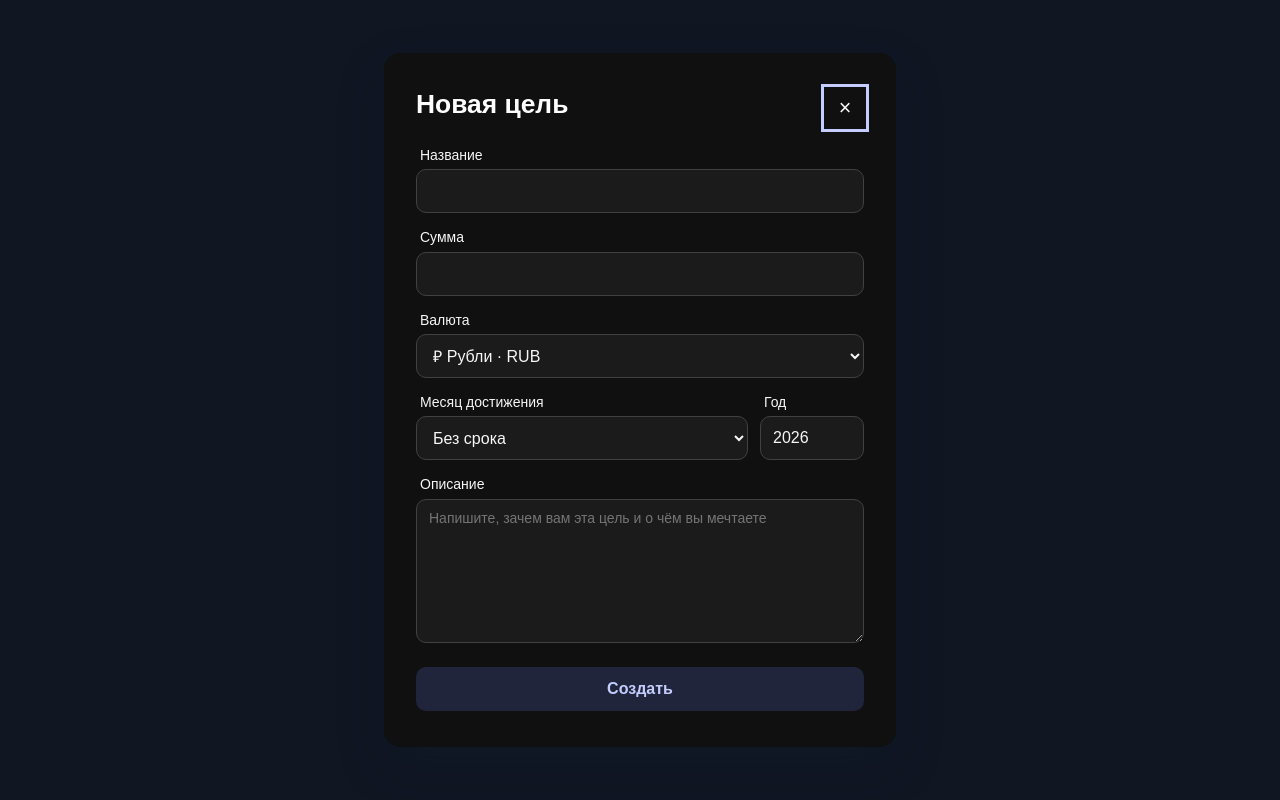
Scenario: CreateGoalDialog › keeps the dialog open when Отпуск and 1000.5 are invalid
In the field labelled "Название": (640, 191) [416,169,864,213], type "Отпуск"
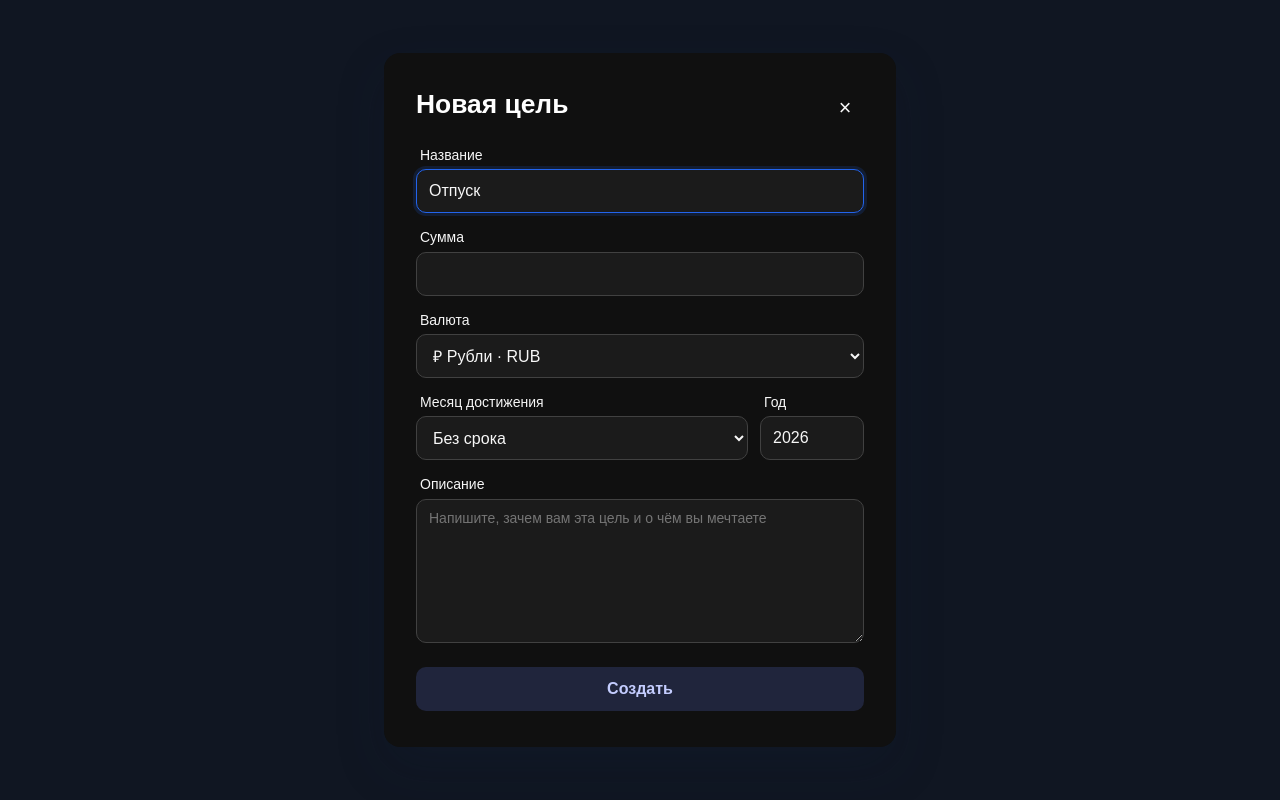
In the field labelled "Сумма": (640, 274) [416,252,864,296], type "1000.5"
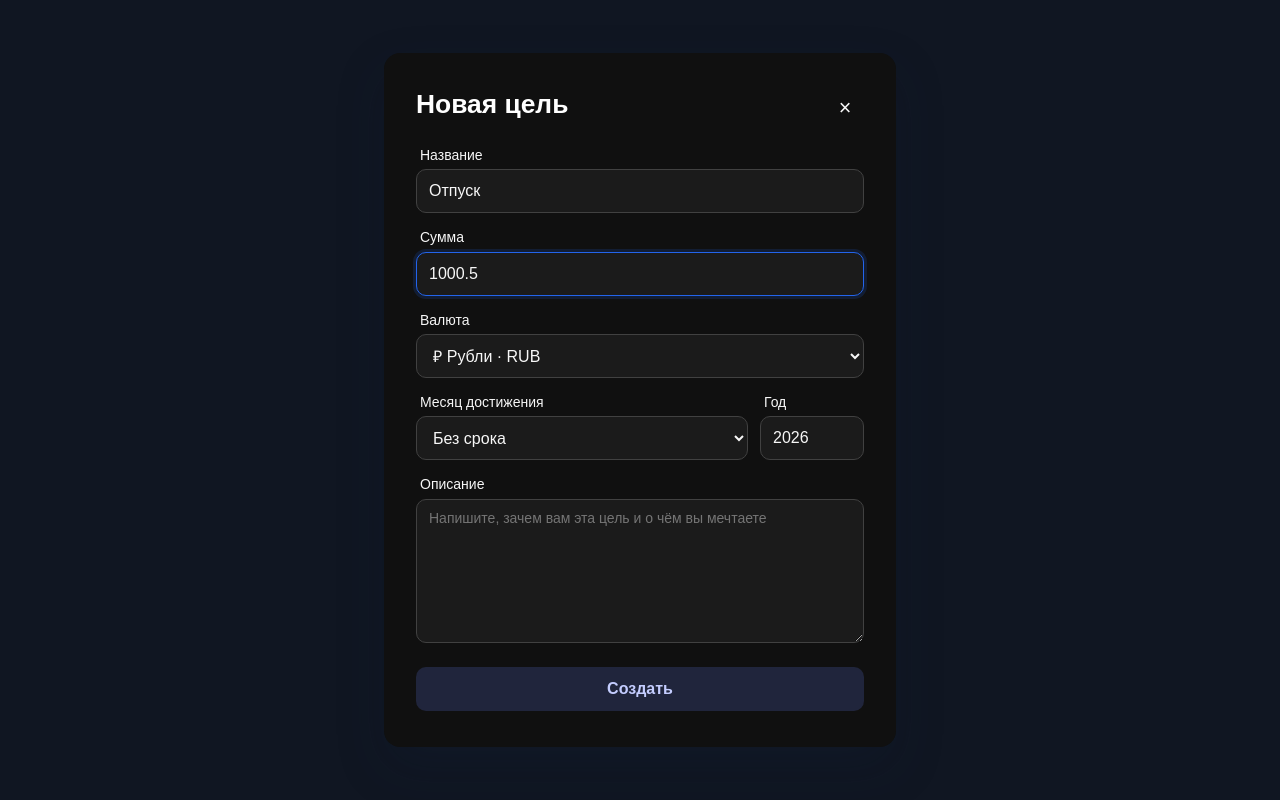
Click the button "Создать": (640, 689) [416,667,864,711]
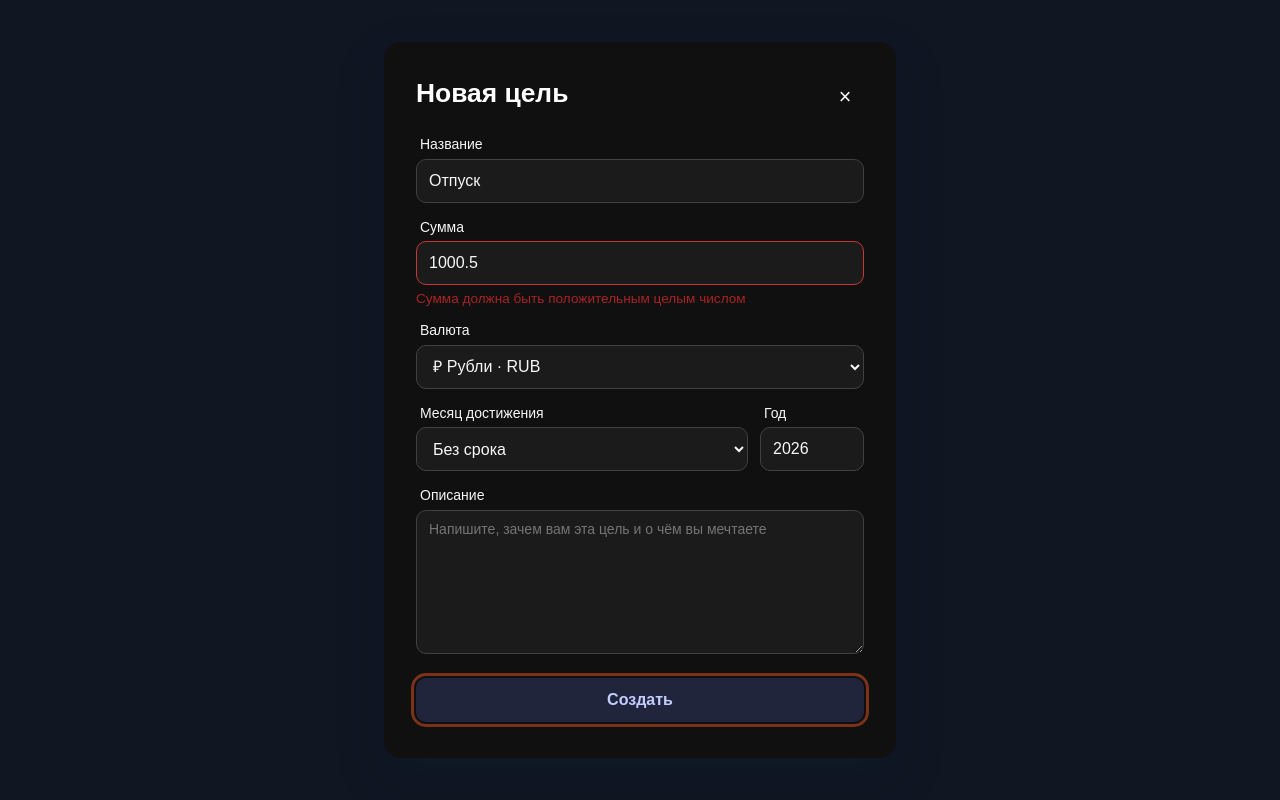
Now the message reads "Сумма должна быть положительным целым числом", box [416,291,746,306]
